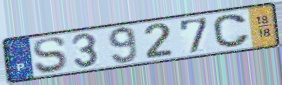2: (142, 22, 176, 60)
3: (71, 31, 102, 70)
7: (178, 15, 209, 55)
9: (106, 25, 140, 65)
C: (211, 13, 252, 49)
S: (31, 35, 67, 75)
